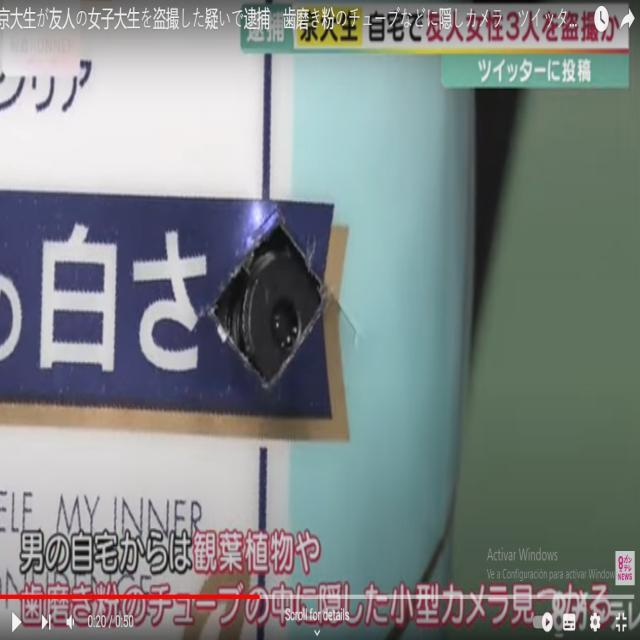hidden camera: (270, 296, 303, 361)
